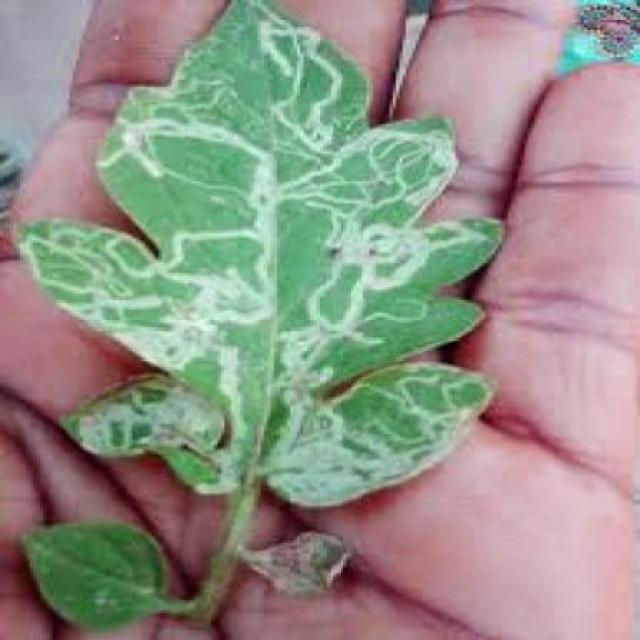Leaf Miner: (0, 0, 501, 505)
